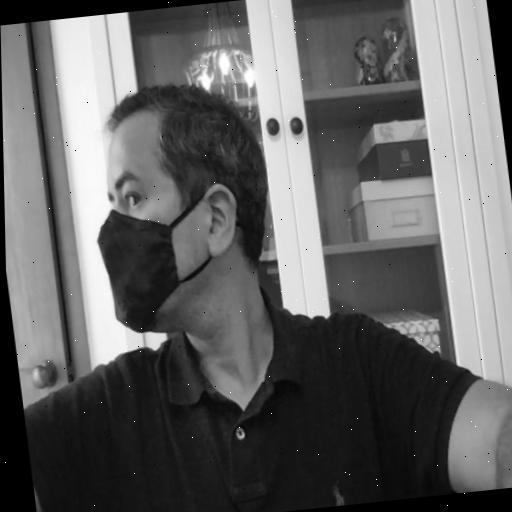mask: (79, 71, 286, 340)
